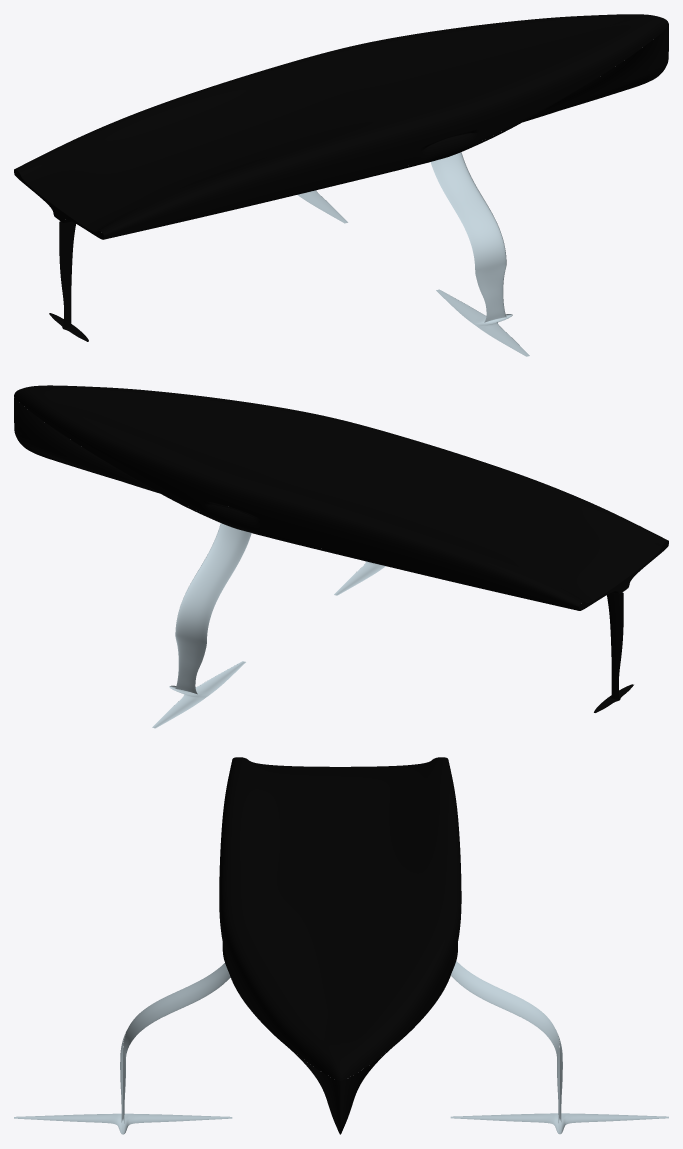
3 renders of one model, top to bottom at view 1: azimuth 30°, elevation 25°; view 2: azimuth 150°, elevation 25°; view 3: azimuth 270°, elevation 25°, orthographic. The views are drawn at different scales.
Visible parts, largest first — view 1: TrimSrf (×4), ARM, WINGIB (×2), Rudder; view 2: TrimSrf (×4), ARM, WINGIB (×2), Rudder; view 3: TrimSrf (×4), ARM (×2), WINGIB (×2).
Boxes of the visible parts, <box> form: TrimSrf (×4): <box>15,14,668,239</box>; ARM: <box>430,152,506,322</box>; WINGIB (×2): <box>297,190,529,356</box>; Rudder: <box>59,221,75,328</box>; TrimSrf (×4): <box>14,385,667,610</box>; ARM: <box>175,523,251,694</box>; WINGIB (×2): <box>152,561,385,728</box>; Rudder: <box>607,592,623,699</box>; TrimSrf (×4): <box>219,757,461,1134</box>; ARM (×2): <box>120,961,562,1123</box>; WINGIB (×2): <box>14,1113,668,1134</box>.
Bounding box in the file's own units: 11.8 × 3.34 × 9.13.
